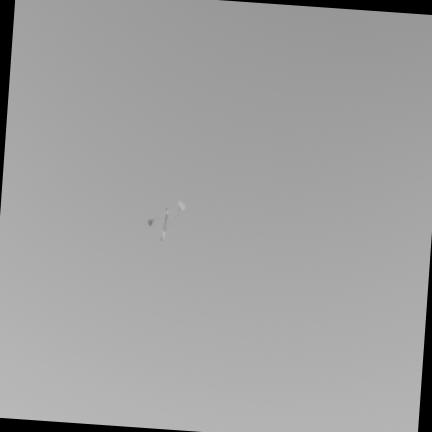Shahed: (148, 201, 185, 241)
